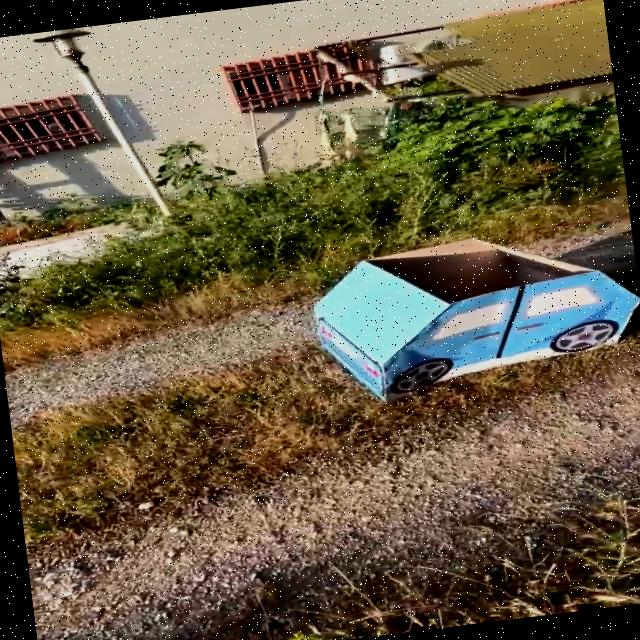blue_car: (259, 204, 640, 423)
